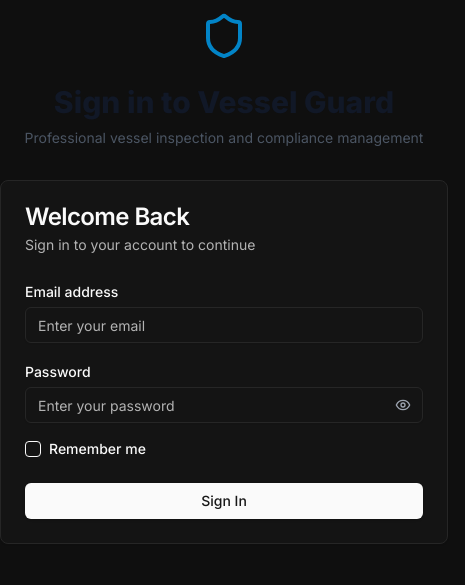
Scenario: LoginForm - Complete Testing › Validation Error Display › should display email validation error for invalid email
This screenshot has width=465, height=585.
# Enter invalid email and valid password
In the field labelled "Email address": (224, 325) [25,307,423,343], type "invalid-email"
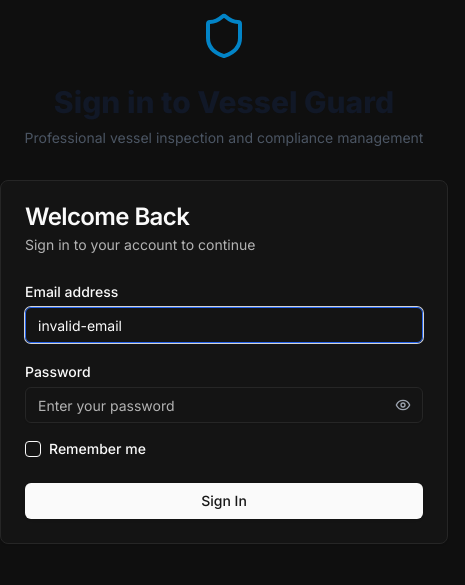
In the password field labelled "Password": (224, 405) [25,387,423,423], type "password123"
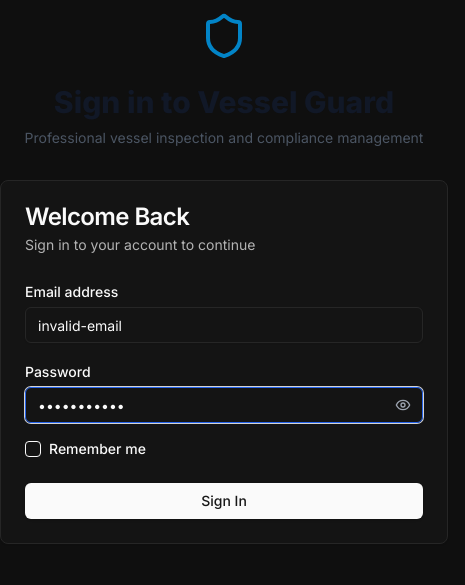
# Submit form
Submit the form, box [25,279,423,519]
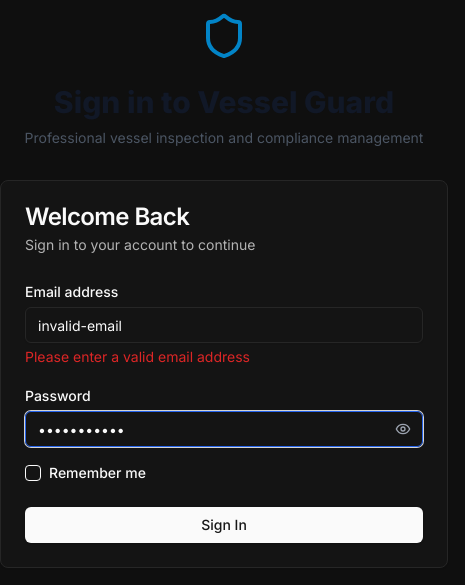
Now the text "Please enter a valid email address" is shown, box [25,348,250,365]
